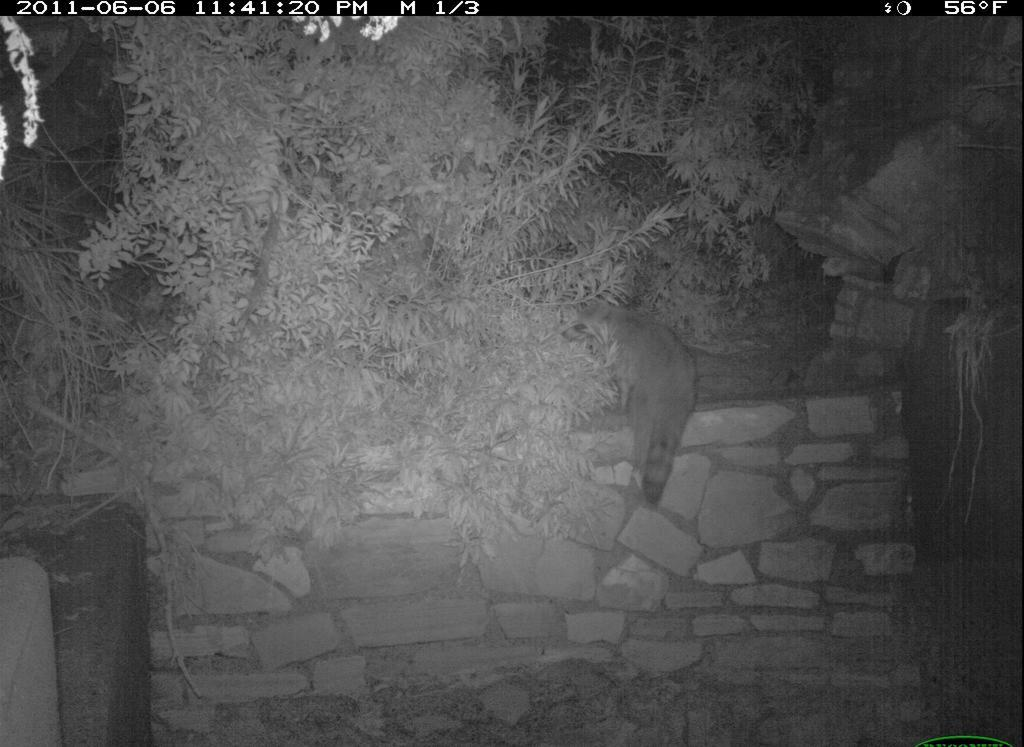raccoon: (570, 291, 712, 521)
